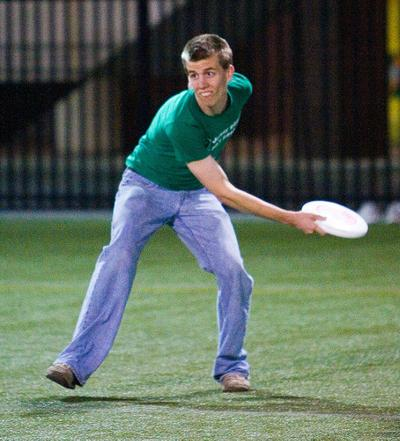person: (46, 33, 327, 391)
